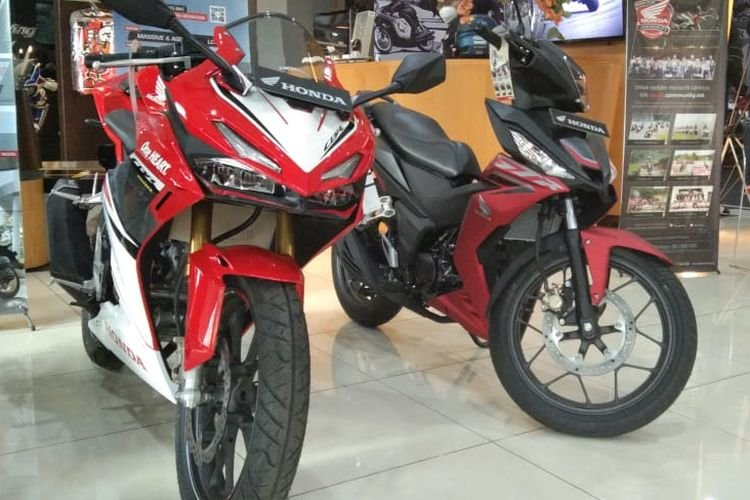motor: (361, 17, 698, 438), (64, 36, 371, 497)
